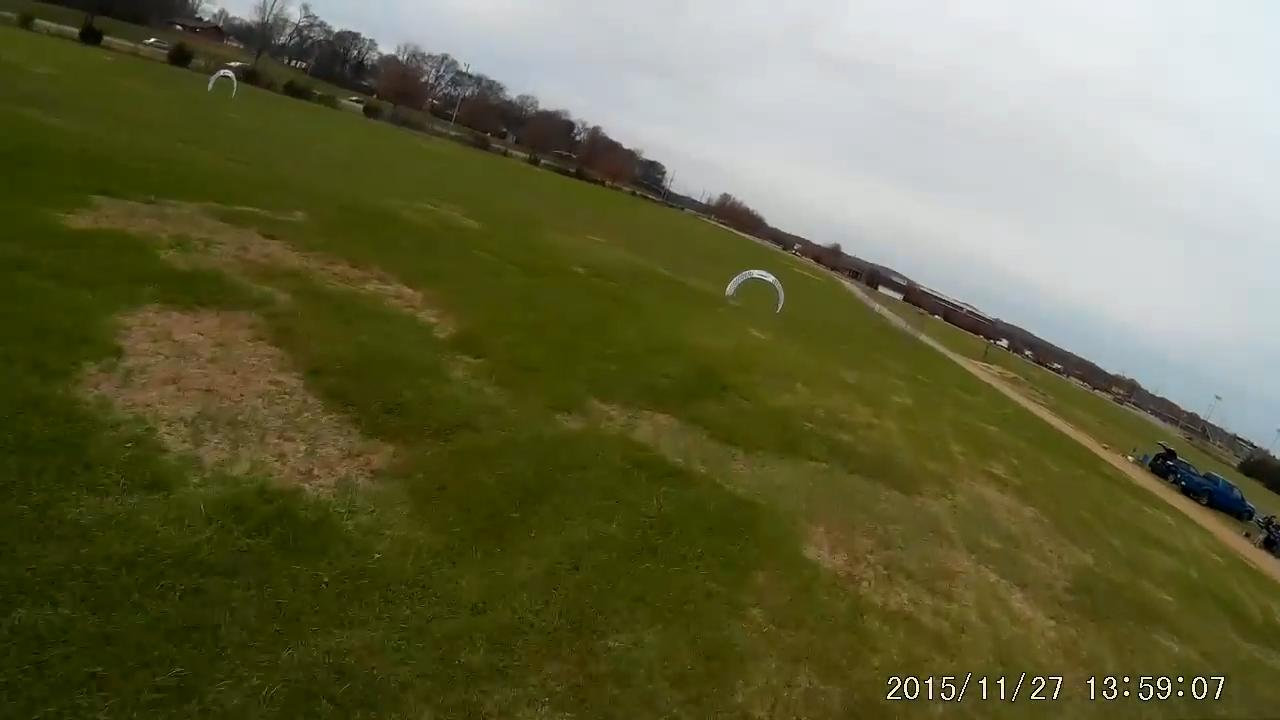gate: (723, 268, 789, 317)
